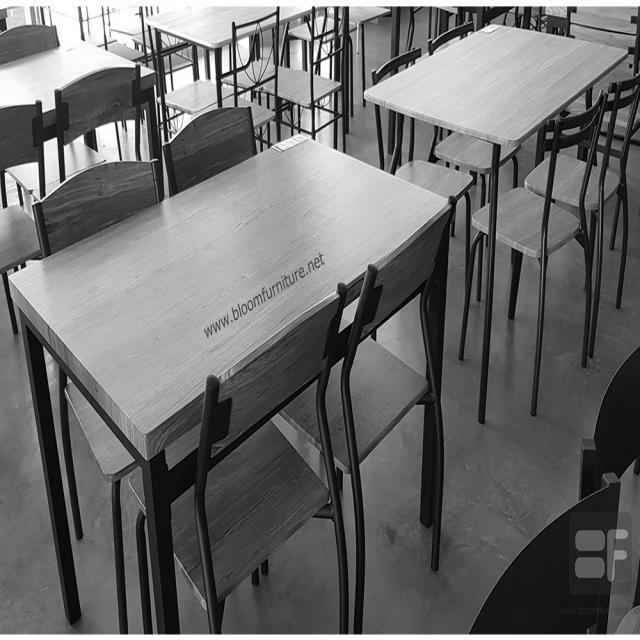table: (9, 146, 454, 426), (355, 20, 629, 146)
